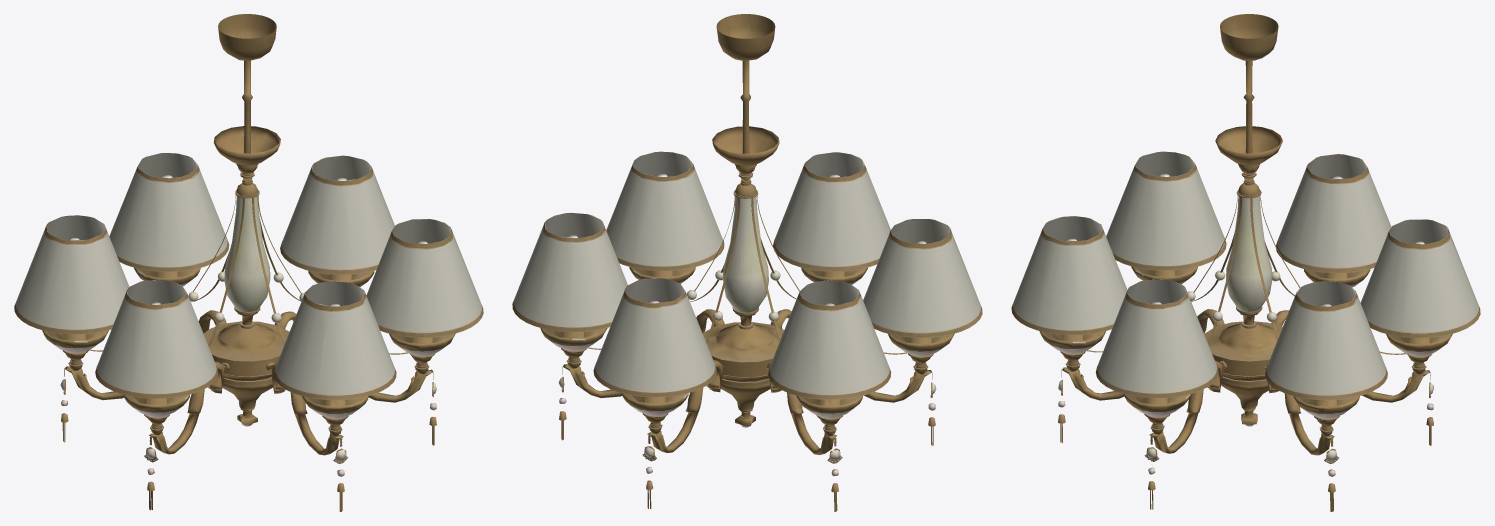
File: Chandelier_01.glb
The picture shows the model from 3 angles, left to right: view 1: azimuth 30°, elevation 25°; view 2: azimuth 150°, elevation 25°; view 3: azimuth 270°, elevation 25°; orthographic projection.
Parts seen in each view (by area): view 1: Chandelier_01; view 2: Chandelier_01; view 3: Chandelier_01.
Boxes of the visible parts, <box> form: Chandelier_01: <box>14,14,483,511</box>; Chandelier_01: <box>512,14,982,511</box>; Chandelier_01: <box>1011,14,1480,511</box>.
Size of the model in its own units: 0.7465 by 0.7983 by 0.8155.
2 materials, 1 textured.
